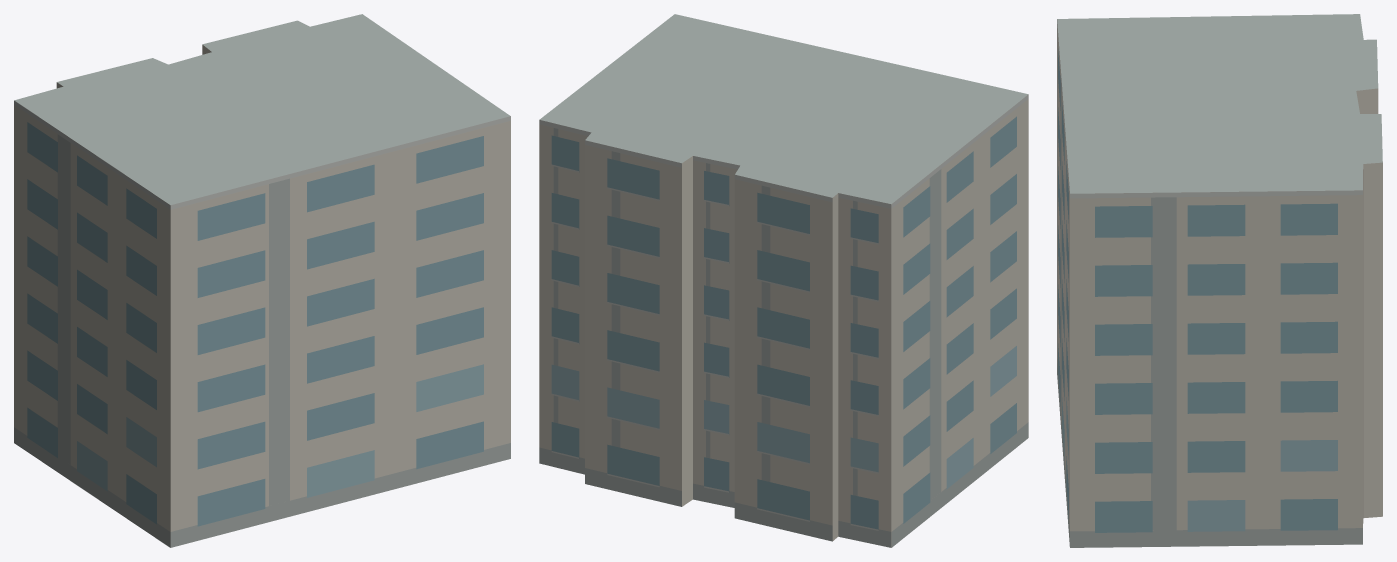
Rendered from survey-upis-32840841.glb.
3 views of the same model, side by side, from view 1: azimuth 30°, elevation 25°; view 2: azimuth 150°, elevation 25°; view 3: azimuth 270°, elevation 25° (orthographic). The views are drawn at different scales.
Parts seen in each view (by area): view 1: survey-upis-32840841.tmp; view 2: survey-upis-32840841.tmp; view 3: survey-upis-32840841.tmp.
Boxes of the visible parts, left/top/right/bottom form: survey-upis-32840841.tmp: left=14, top=14, right=510, bottom=547; survey-upis-32840841.tmp: left=539, top=14, right=1028, bottom=547; survey-upis-32840841.tmp: left=1057, top=14, right=1382, bottom=547.
Bounding box in the file's own units: 19.93 × 18.3 × 15.27.
